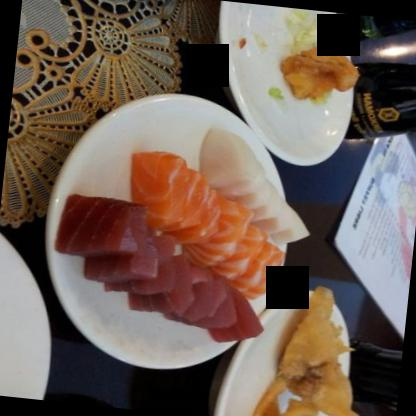salmon: (184, 188, 256, 270), (217, 224, 286, 302), (129, 150, 193, 230), (160, 169, 224, 243)
tuna: (60, 191, 146, 258), (82, 225, 162, 288), (165, 270, 242, 330), (130, 252, 196, 314), (208, 288, 267, 346)
